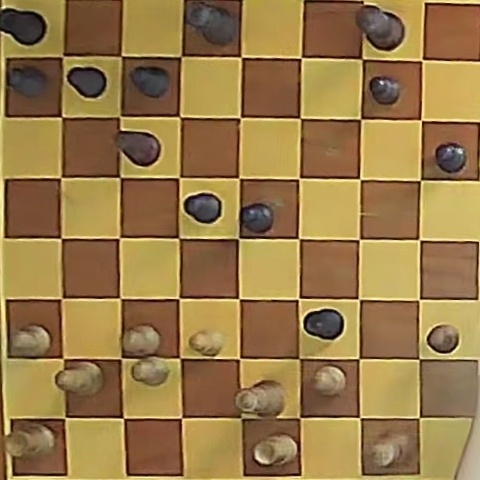black-king: (355, 6, 404, 51)
black-knight: (117, 131, 160, 166)
black-pawn: (67, 66, 107, 99), (130, 66, 171, 98), (7, 66, 47, 98), (184, 193, 222, 224), (241, 203, 274, 233), (435, 143, 466, 173), (369, 76, 401, 105)
black-queen: (185, 2, 236, 46)
black-rook: (0, 7, 47, 47), (303, 308, 344, 340)
white-bishop: (56, 362, 102, 396), (312, 365, 346, 396)
white-king: (370, 433, 406, 468)
white-pawn: (10, 324, 51, 357), (122, 325, 161, 356), (131, 357, 170, 386), (189, 329, 225, 357), (427, 325, 458, 353)
white-queen: (234, 380, 286, 417)
white-rook: (6, 423, 57, 459), (253, 434, 297, 467)
